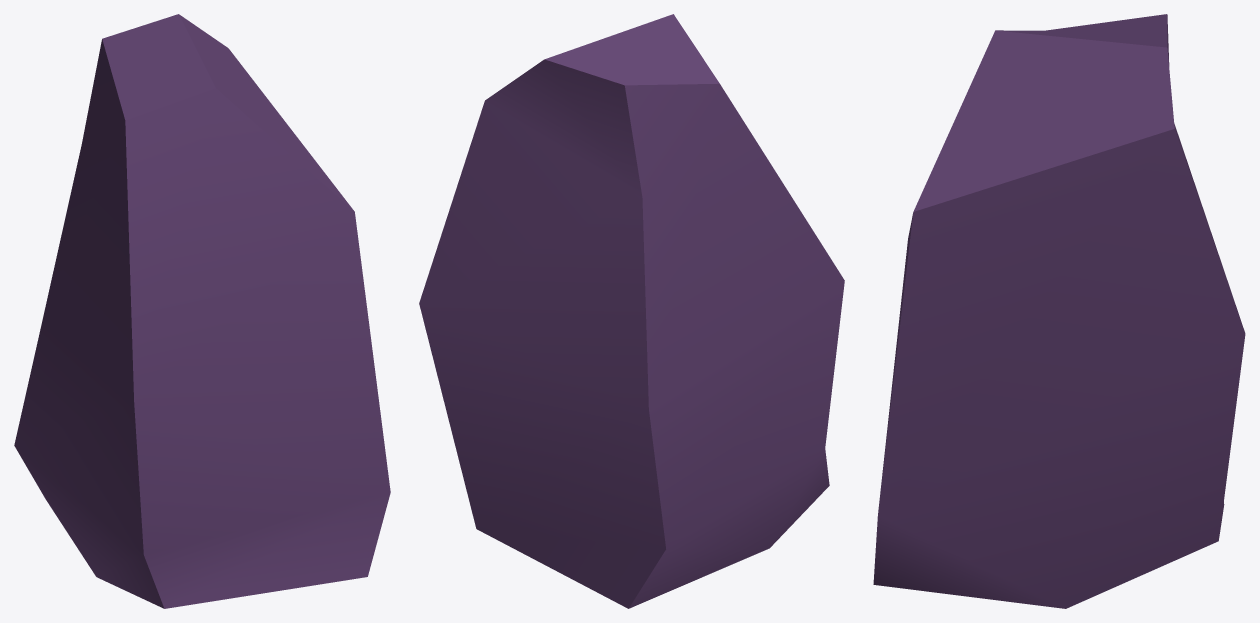
File: Rock_004.fbx
The picture shows the model from 3 angles, left to right: view 1: azimuth 30°, elevation 25°; view 2: azimuth 150°, elevation 25°; view 3: azimuth 270°, elevation 25°; orthographic projection. The views are drawn at different scales.
Parts seen in each view (by area): view 1: Rock_004; view 2: Rock_004; view 3: Rock_004.
Boxes of the visible parts, x1,y1,x2,y2 form: Rock_004: (14,14,390,608); Rock_004: (419,14,844,608); Rock_004: (873,14,1245,608).
Size of the model in its own units: 1.78 by 3.34 by 2.15.
